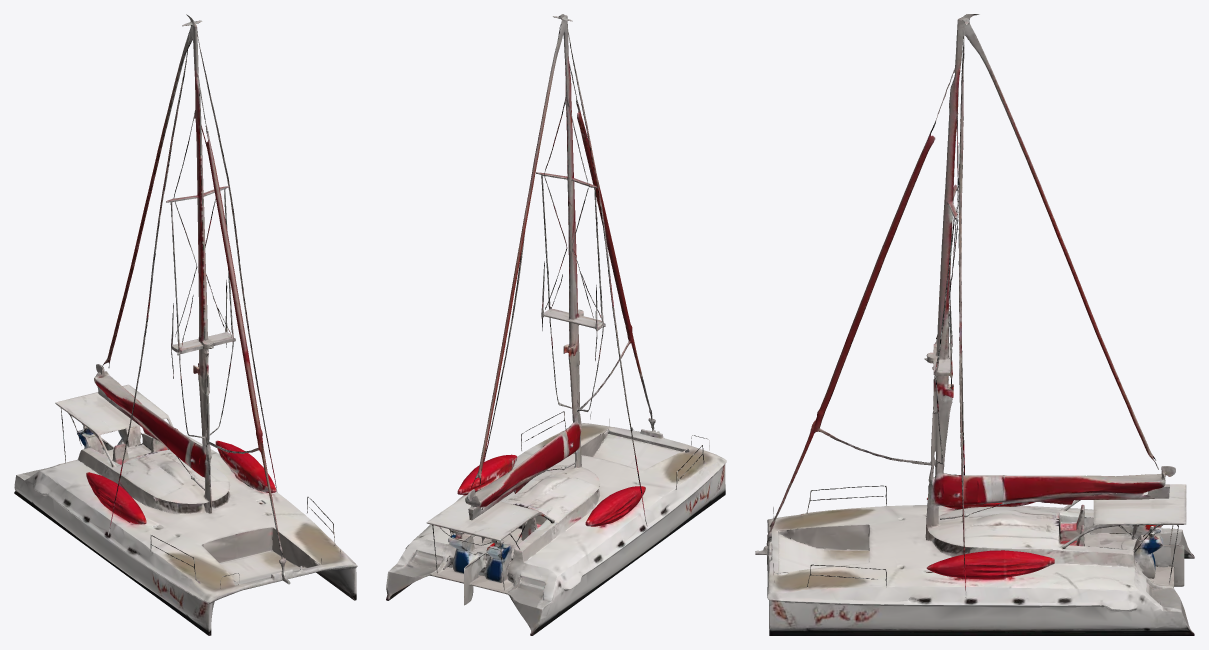
File: let-it-be-catamaran.glb
3 views of the same model, side by side, from view 1: azimuth 30°, elevation 25°; view 2: azimuth 150°, elevation 25°; view 3: azimuth 270°, elevation 25° (orthographic). The views are drawn at different scales.
Visible parts, largest first — view 1: model; view 2: model; view 3: model.
Part boxes in pixels (box(x1,y1,x2,y2)): model: box(14, 14, 357, 635); model: box(386, 14, 726, 635); model: box(755, 14, 1194, 635).
Size of the model in its own units: 0.6334 by 1.9 by 1.3.
1 material, 1 textured.
